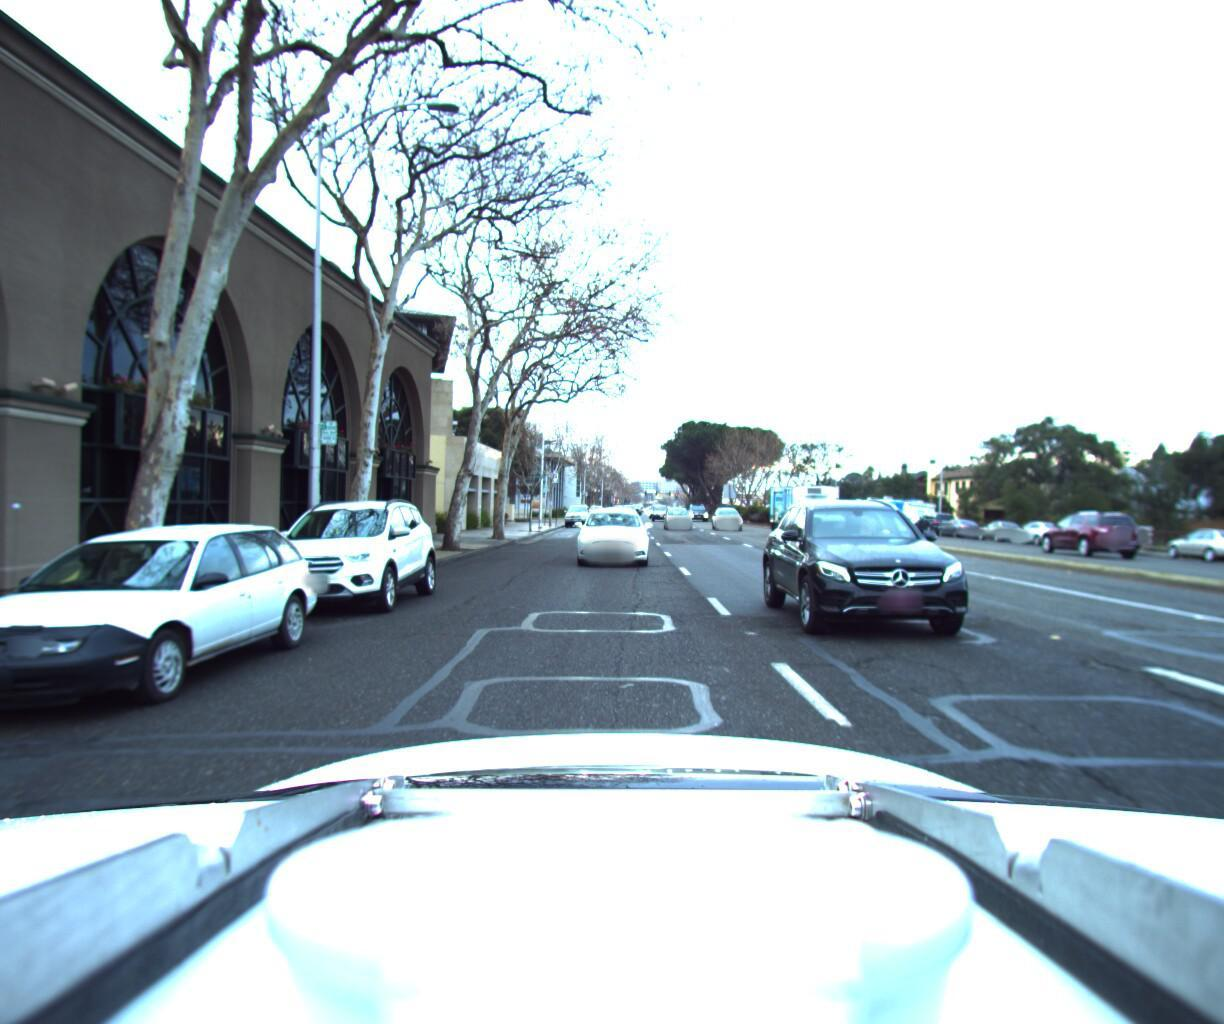car: (0, 514, 323, 750), (767, 488, 1059, 669), (228, 490, 445, 625), (1022, 501, 1130, 552), (571, 499, 649, 564), (1059, 510, 1157, 547), (1159, 517, 1224, 559), (1002, 511, 1076, 542), (911, 502, 962, 533), (932, 509, 985, 535), (973, 513, 1029, 536), (708, 494, 748, 525), (660, 501, 697, 527), (562, 495, 591, 520), (687, 503, 708, 519), (647, 499, 667, 515)
other_vehicle: (880, 488, 938, 532), (847, 484, 908, 524)
truck: (764, 470, 857, 533)
